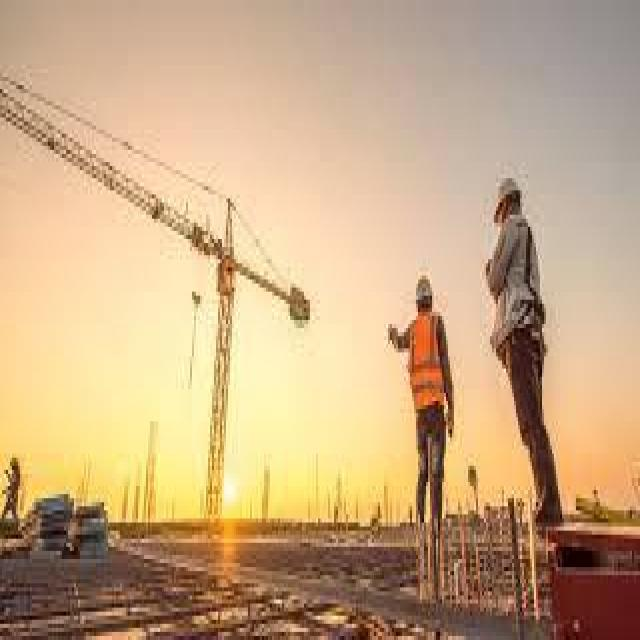Reflective-Jacket: (488, 223, 550, 352), (402, 304, 456, 433)
Safety-Helmet: (488, 162, 526, 223), (410, 263, 438, 312)
